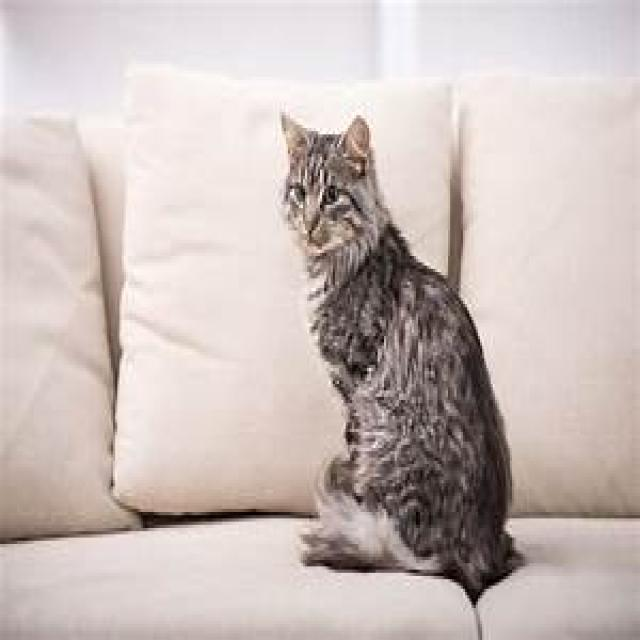cat: (275, 106, 525, 604)
